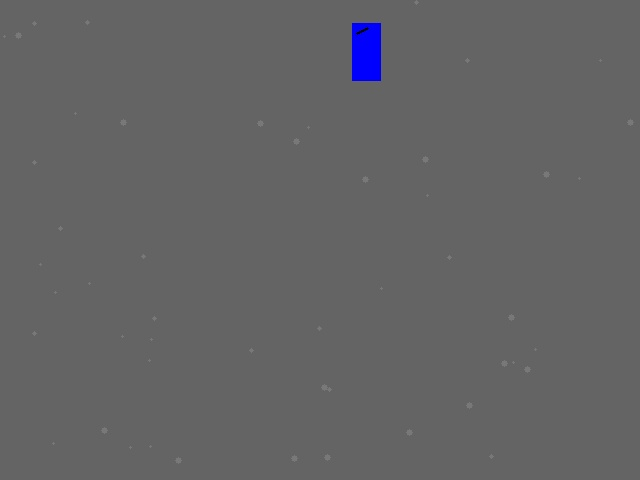motorcycle: (352, 23, 380, 80)
